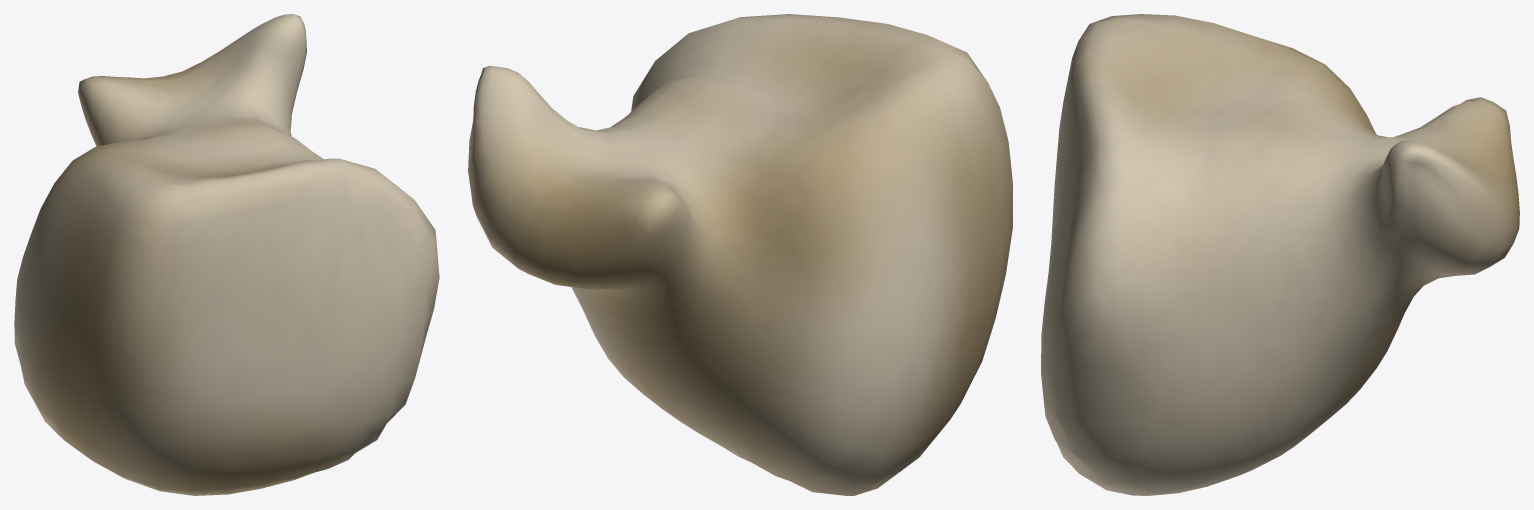
Rendered from R tarsi centrale.fbx.
3 views of the same model, side by side, from view 1: azimuth 30°, elevation 25°; view 2: azimuth 150°, elevation 25°; view 3: azimuth 270°, elevation 25° (orthographic). The views are drawn at different scales.
Parts seen in each view (by area): view 1: R tarsi centrale; view 2: R tarsi centrale; view 3: R tarsi centrale.
Part boxes in pixels (x1,y1,x2,y2): R tarsi centrale: (14, 14, 439, 495); R tarsi centrale: (468, 14, 1012, 495); R tarsi centrale: (1041, 14, 1519, 495).
Bounding box in the file's own units: 3.07 × 3.14 × 3.29.
